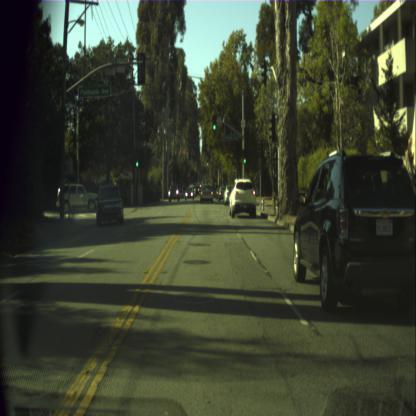Green: (212, 114, 216, 131), (135, 152, 139, 168), (242, 150, 246, 163), (206, 159, 208, 165)
